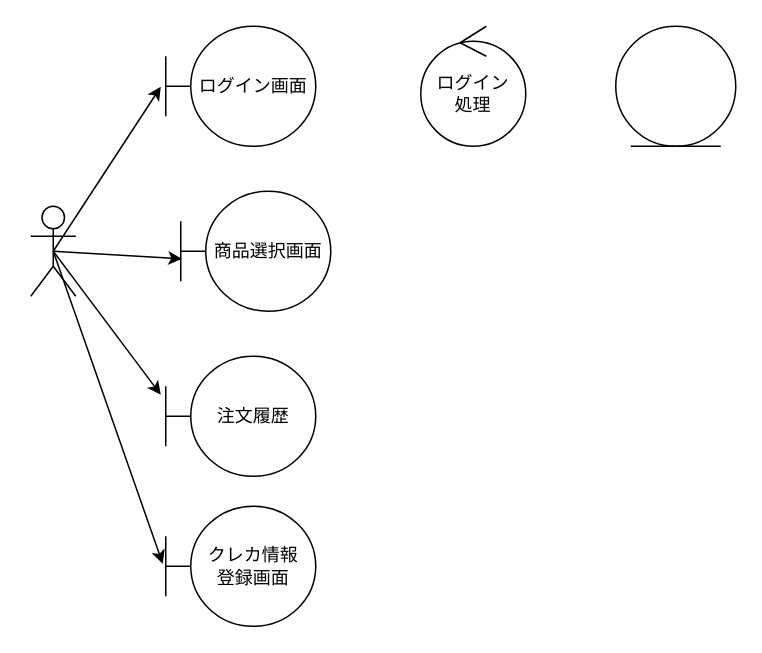
The diagram is 762 pixels wide and 653 high, and some of its shapes have lost their labels. Here are the shapes that lost their labels. From the top down, the centre of each, then its label:
At point 675,85: "Entity Object".
At point 52,250: "ユーザ".
